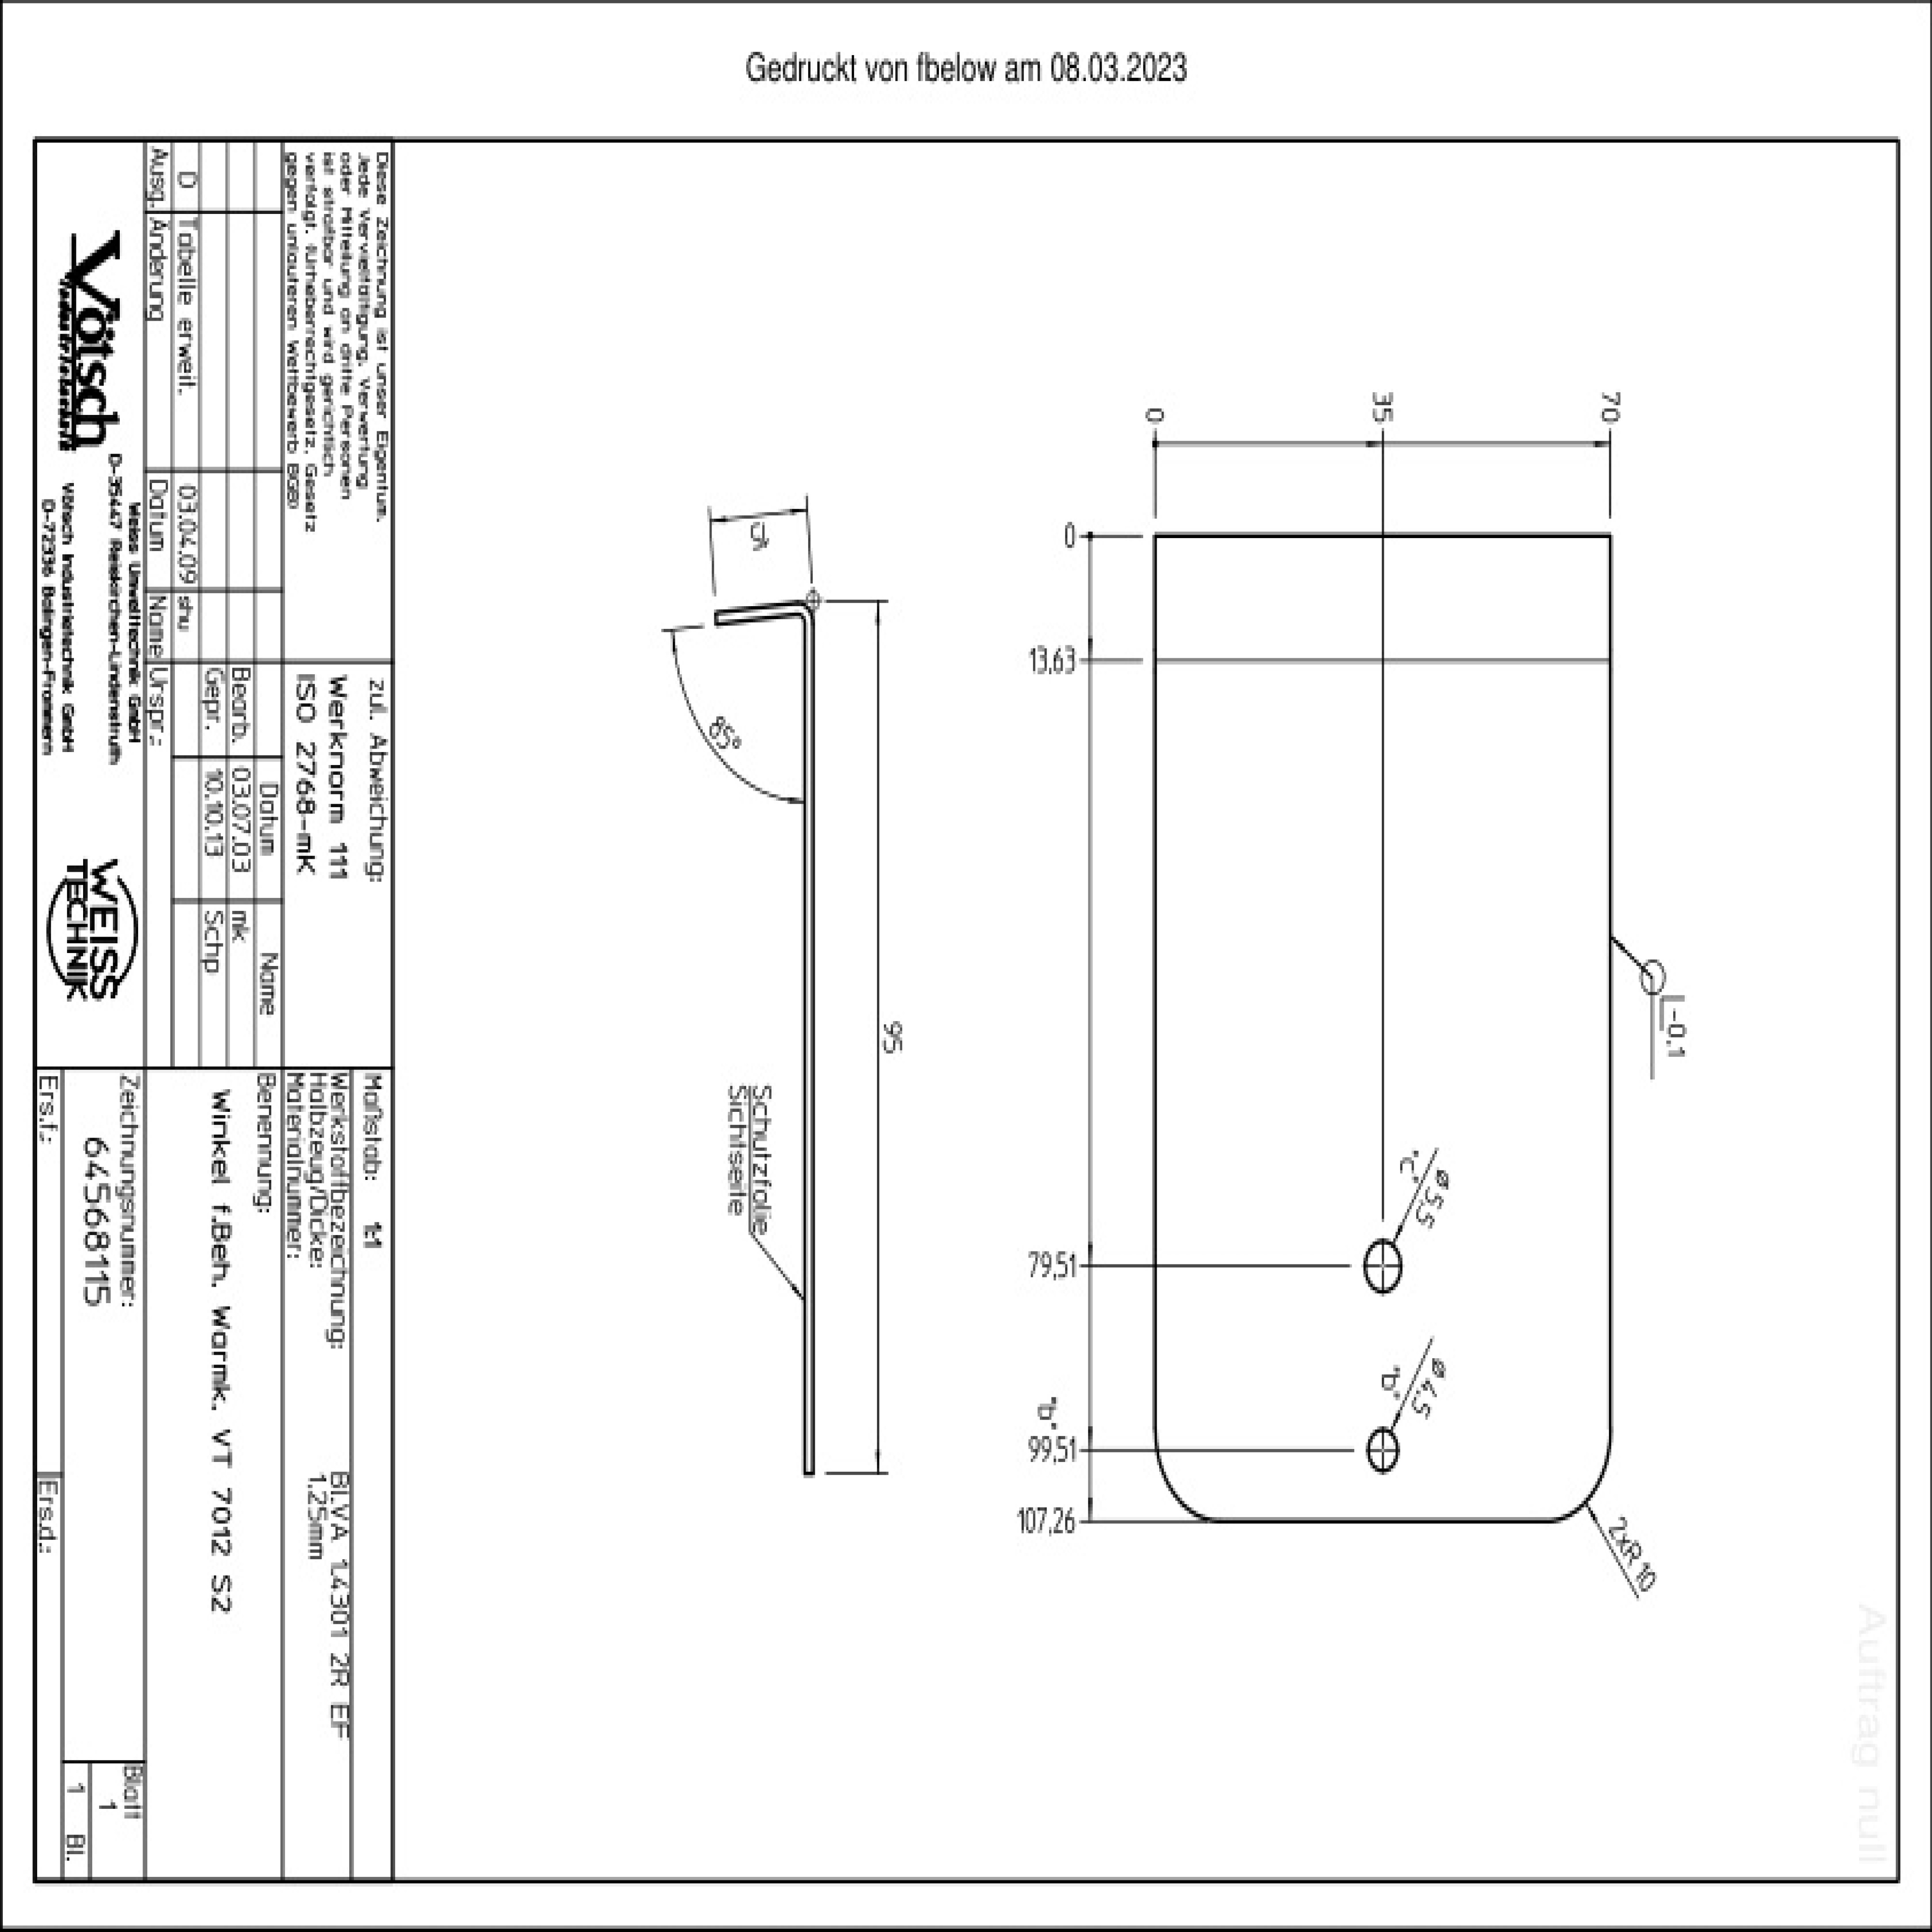InnerContour: (1362, 1238, 1405, 1297), (1368, 1421, 1403, 1479)
